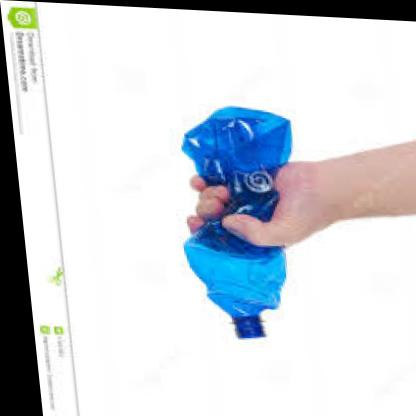Plastic: (158, 89, 316, 361)
